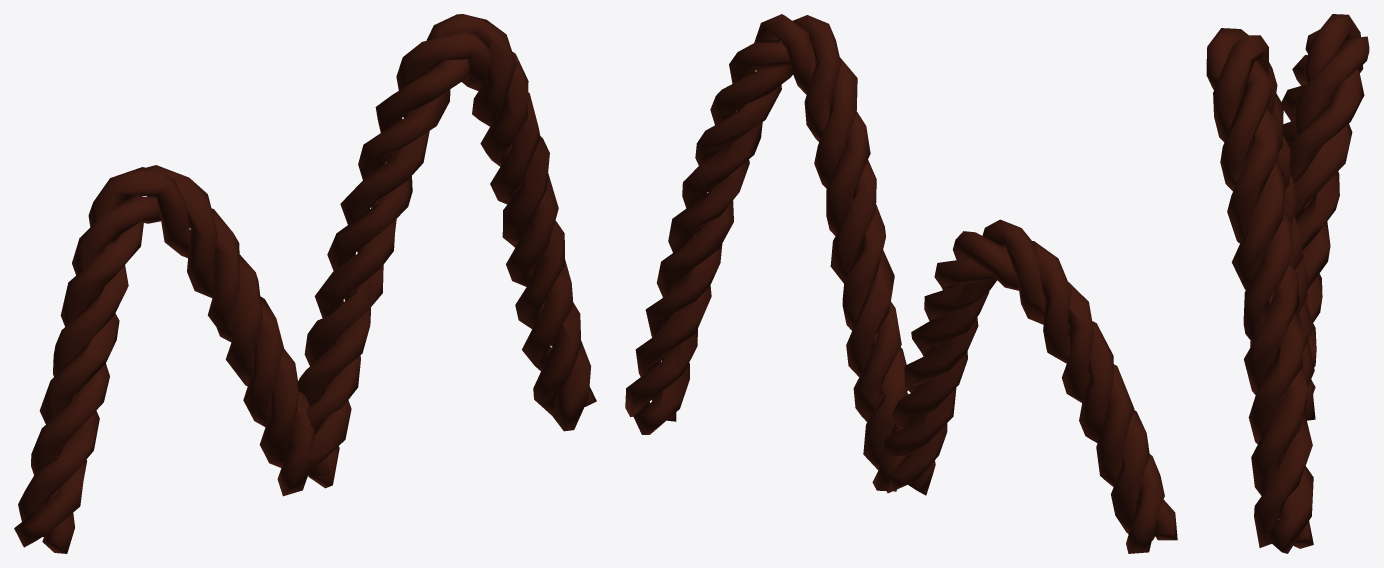
File: licorice-loop-lod.glb
3 renders of one model, left to right at view 1: azimuth 30°, elevation 25°; view 2: azimuth 150°, elevation 25°; view 3: azimuth 270°, elevation 25°, orthographic. The views are drawn at different scales.
Visible parts, largest first — view 1: Licorice loops low core; view 2: Licorice loops low core; view 3: Licorice loops low core.
Boxes of the visible parts, x1,y1,x2,y2 form: Licorice loops low core: (14, 14, 596, 553); Licorice loops low core: (625, 14, 1177, 553); Licorice loops low core: (1206, 14, 1369, 553).
Size of the model in its own units: 2.16 by 1.62 by 0.5205.
